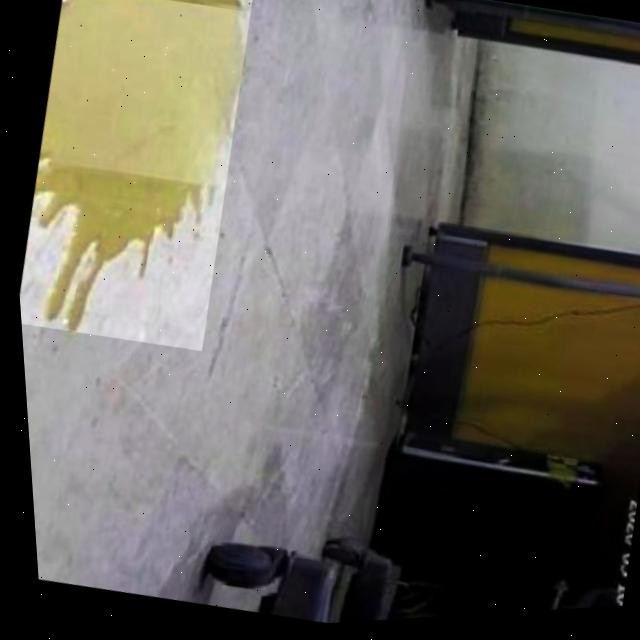spillage: (27, 0, 241, 331)
